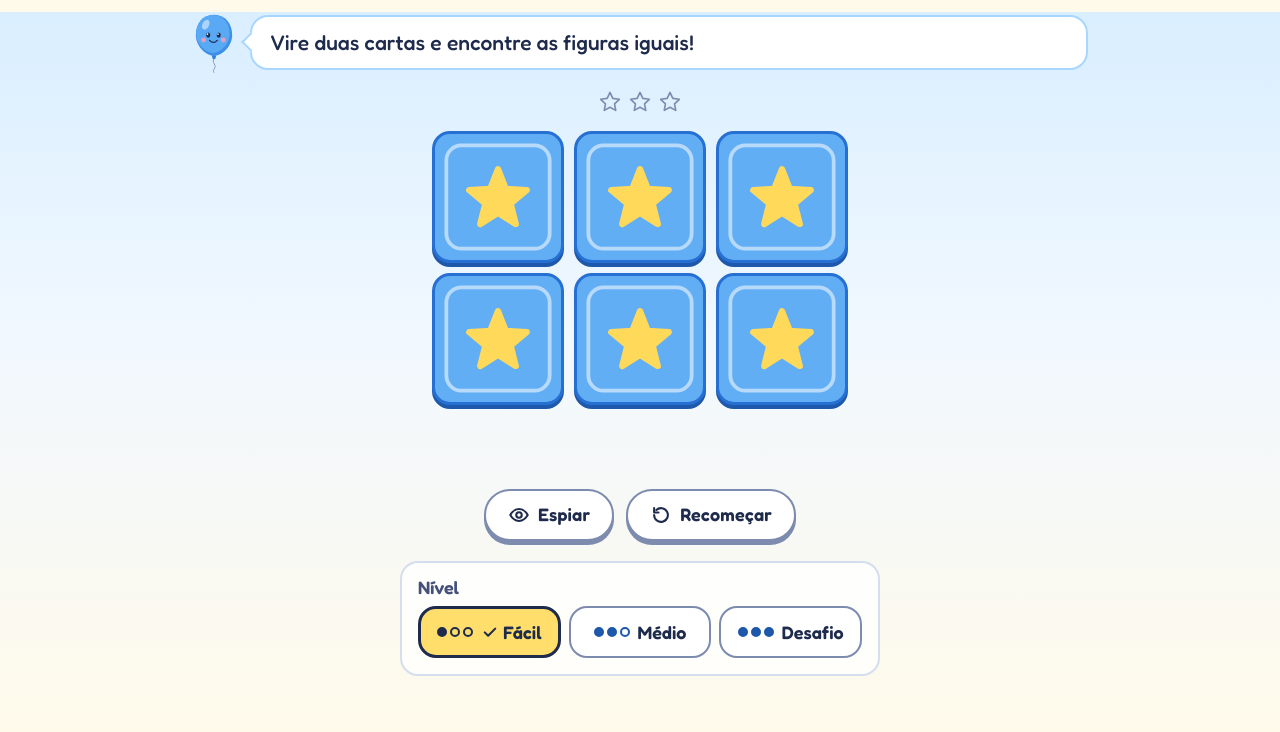
it: Jogo da Memória › virar uma carta mostra a figura e convida a procurar a outra
Click the button named "Carta 1: fechada". click: [498, 196]
box: [432, 130, 564, 262]
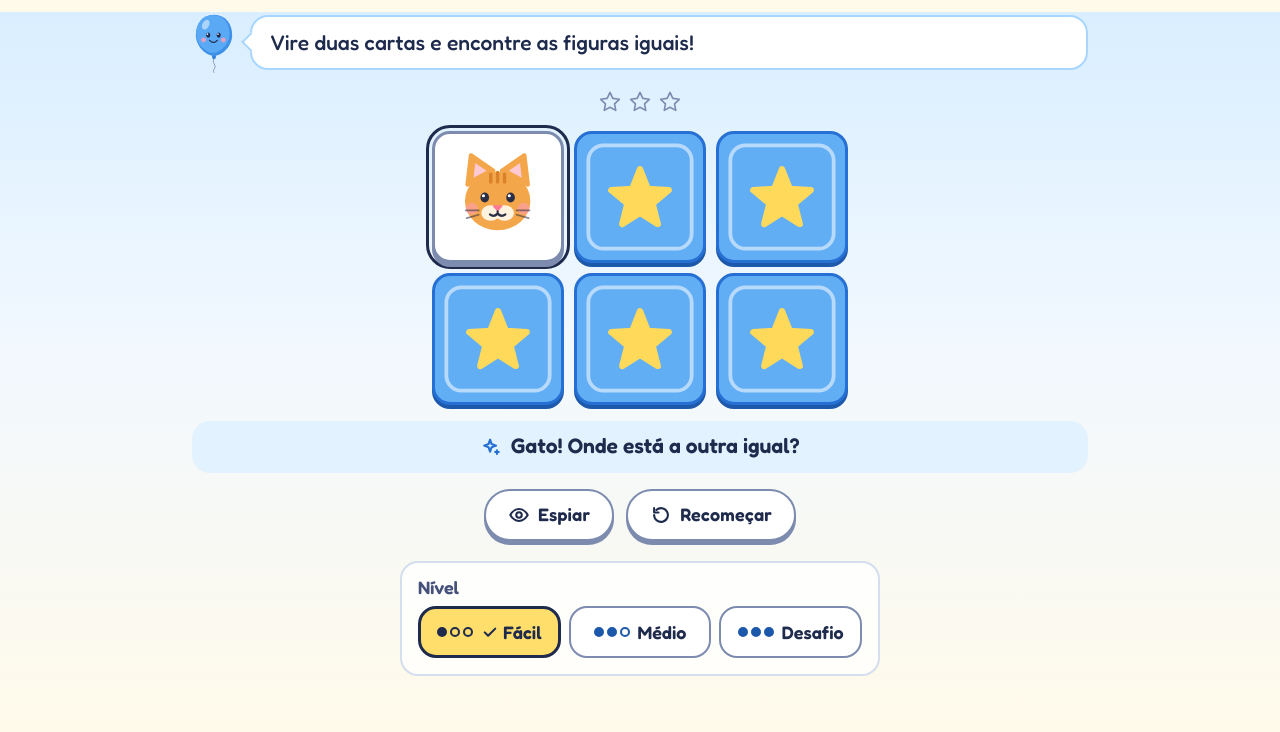
Check: the message shows "Onde está a outra igual?", box [510, 433, 800, 458]
